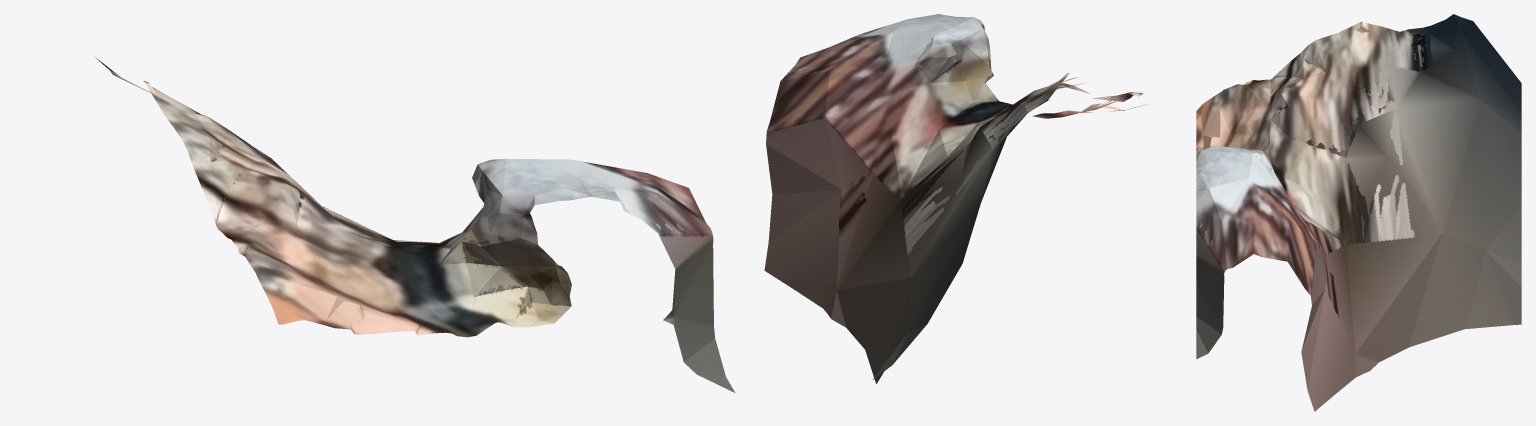
3 renders of one model, left to right at view 1: azimuth 30°, elevation 25°; view 2: azimuth 150°, elevation 25°; view 3: azimuth 270°, elevation 25°, orthographic. The views are drawn at different scales.
Size of the model in its own units: 1.67 by 1.48 by 1.67.
3 materials, 3 textured.
